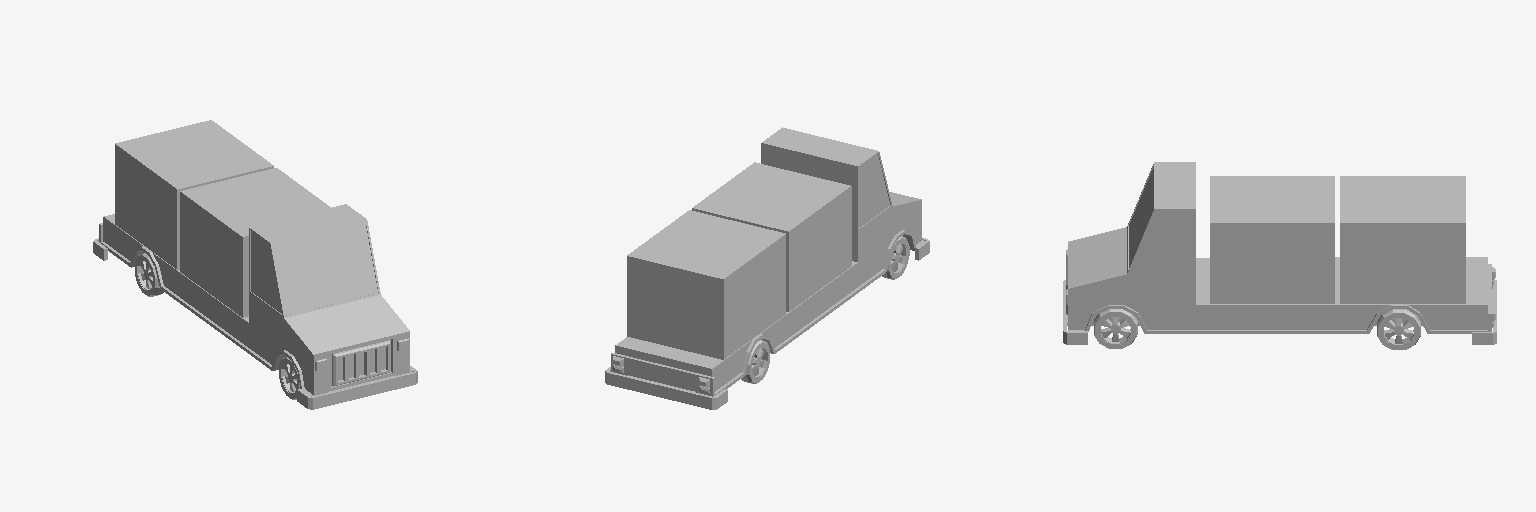
Rendered from truck_01.obj.
The picture shows the model from 3 angles: view 1: azimuth 30°, elevation 25°; view 2: azimuth 150°, elevation 25°; view 3: azimuth 270°, elevation 25°; orthographic projection.
Visible parts, largest first — view 1: truck_Cube; view 2: truck_Cube; view 3: truck_Cube.
Part boxes in pixels (x1,y1,x2,y2): truck_Cube: (93,120,417,409); truck_Cube: (605,127,929,409); truck_Cube: (1063,162,1496,349).
Bounding box in the file's own units: 1.51 × 1.83 × 5.08.